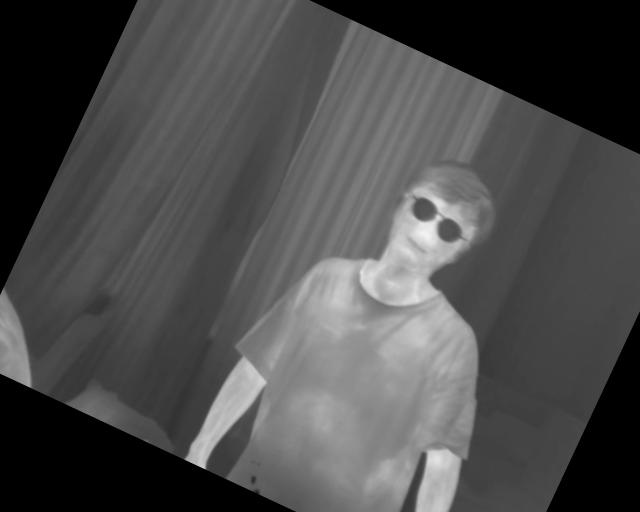face: (370, 142, 513, 297)
